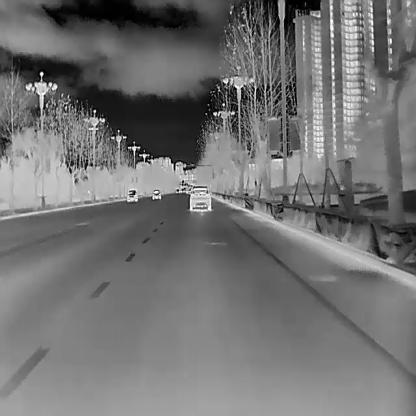car: (189, 185, 211, 210), (126, 189, 137, 202), (152, 189, 161, 200)
